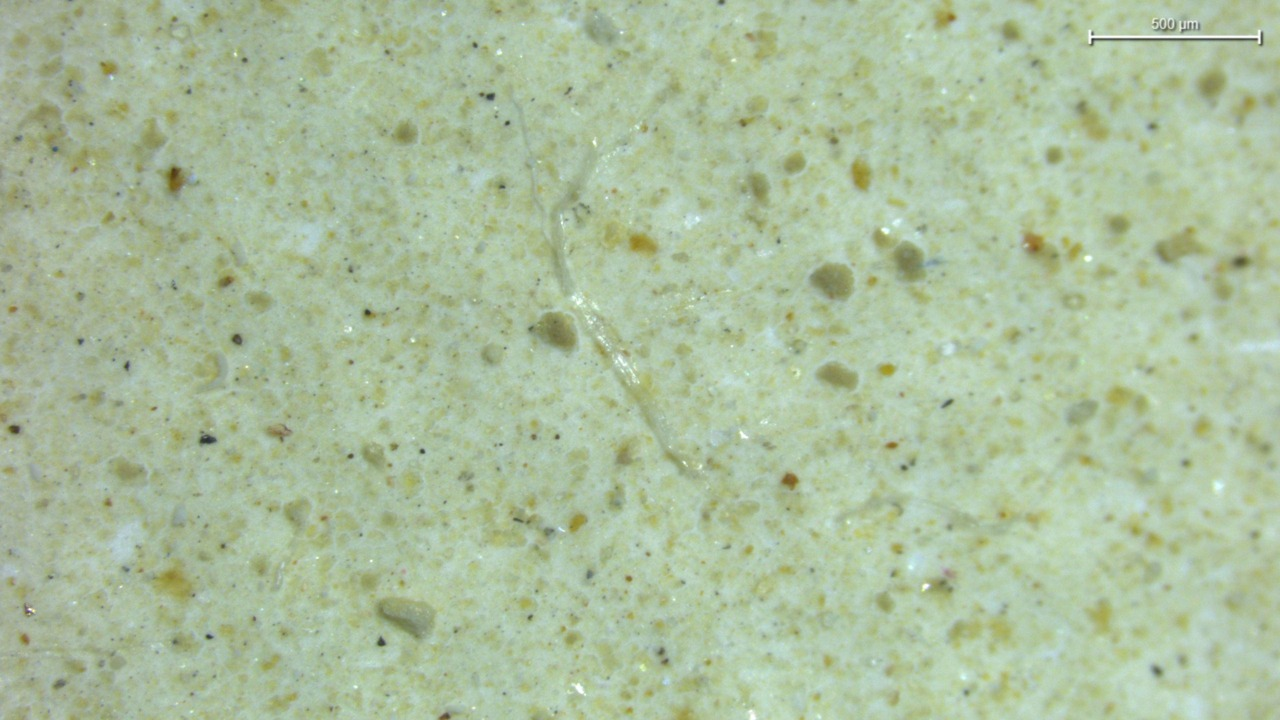microplastic_fragment: (377, 597, 436, 638)
